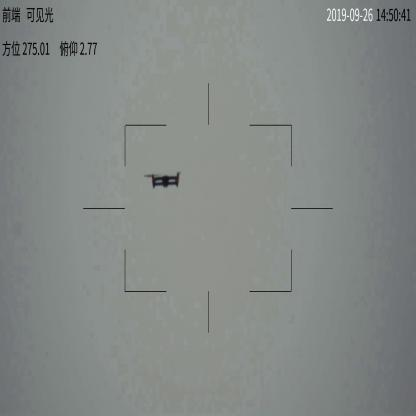uav: (145, 168, 188, 188)
